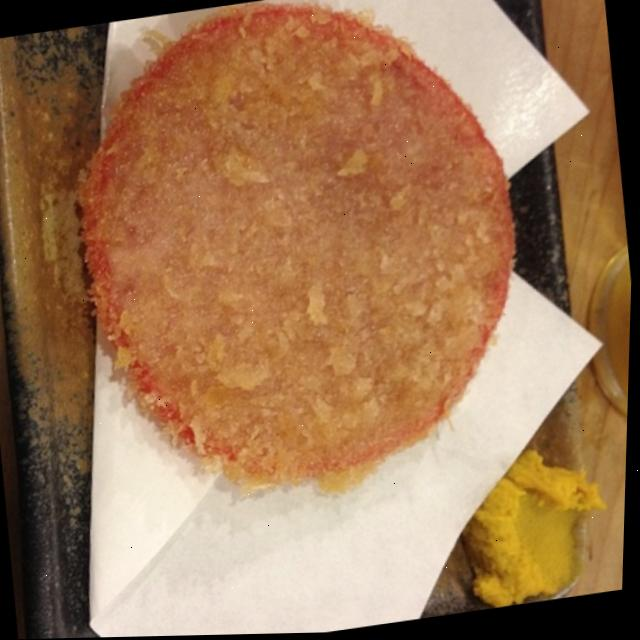炸货点心: (0, 0, 589, 552)
